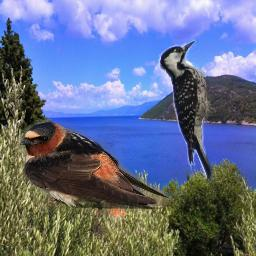Swallow: (19, 120, 173, 211)
Woodpecker: (158, 38, 233, 179)
